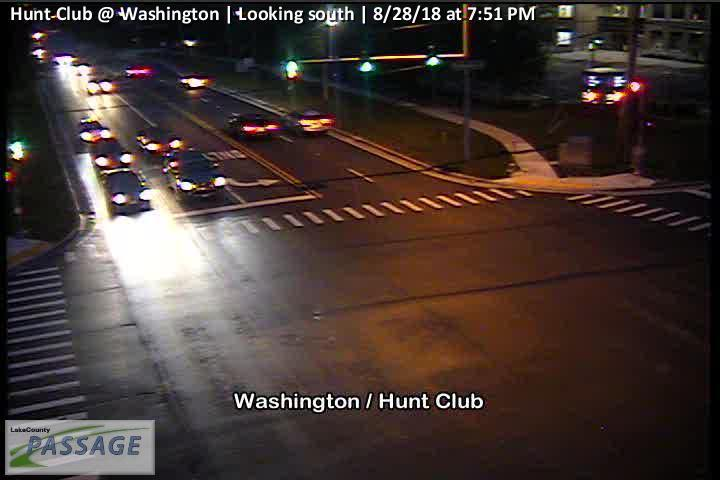Sedan: (166, 151, 225, 201), (103, 170, 150, 215), (225, 112, 278, 138), (286, 111, 335, 137), (80, 120, 109, 144), (176, 74, 212, 90)
